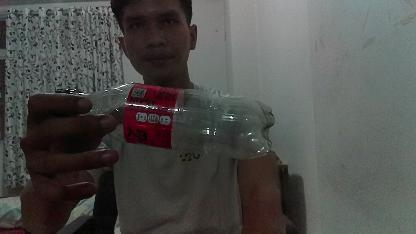Plastic Bottle: (55, 81, 277, 159)
